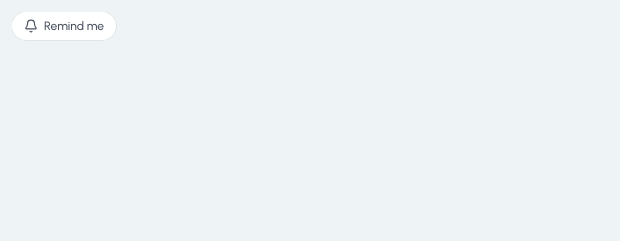
Test: HealthTipReminder › also saves the tip by default, says so, and lets the person untick it
Later steps or results of the test are not shown.
Click the button "Remind me" at (64, 26), box [12, 12, 116, 40]
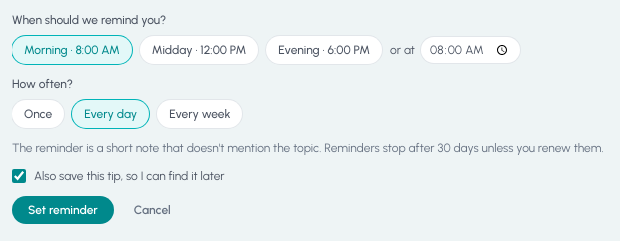
Check: the checkbox labelled "Also save this tip, so I can find it later" is checked, box [12, 169, 26, 183]
